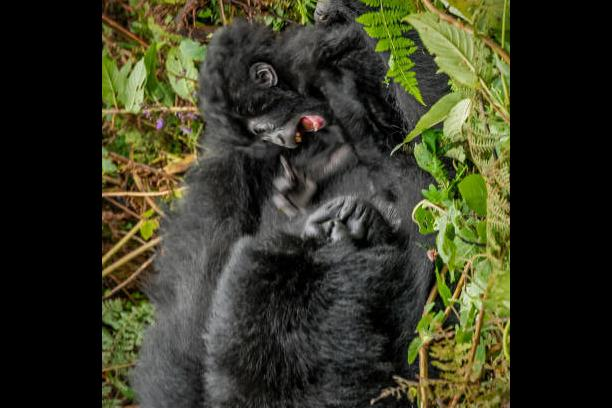goriile_montagne: (130, 137, 439, 408), (192, 0, 392, 160)
